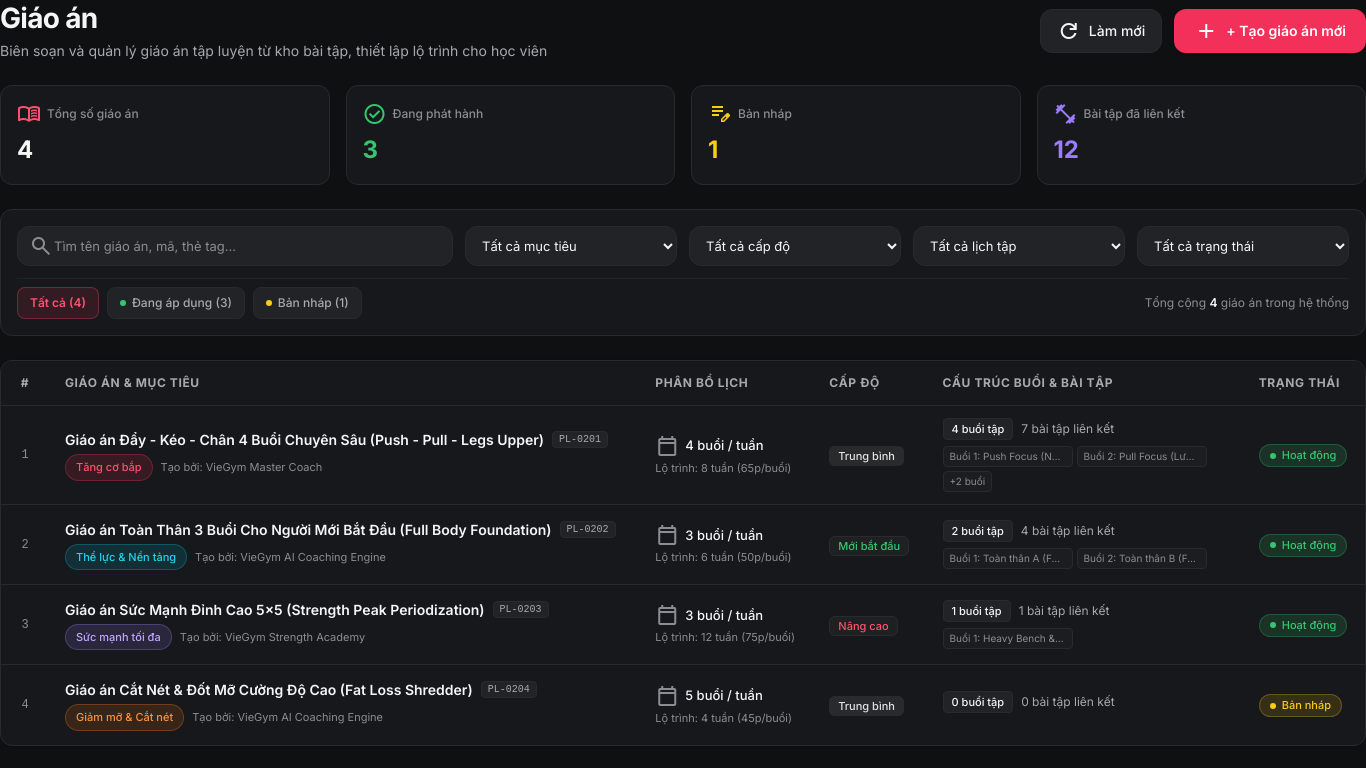
Scenario: WorkoutPlanListPage › opens edit modal on workout plan row click and displays delete button
The width and height of the screenshot is (1366, 768).
What coordinates should you click on to do the following:
click the text "Giáo án Đẩy - Kéo - Chân 4 Buổi Chuyên Sâu"
I would click on:
 (304, 440)
Its box is [65,429,544,450].
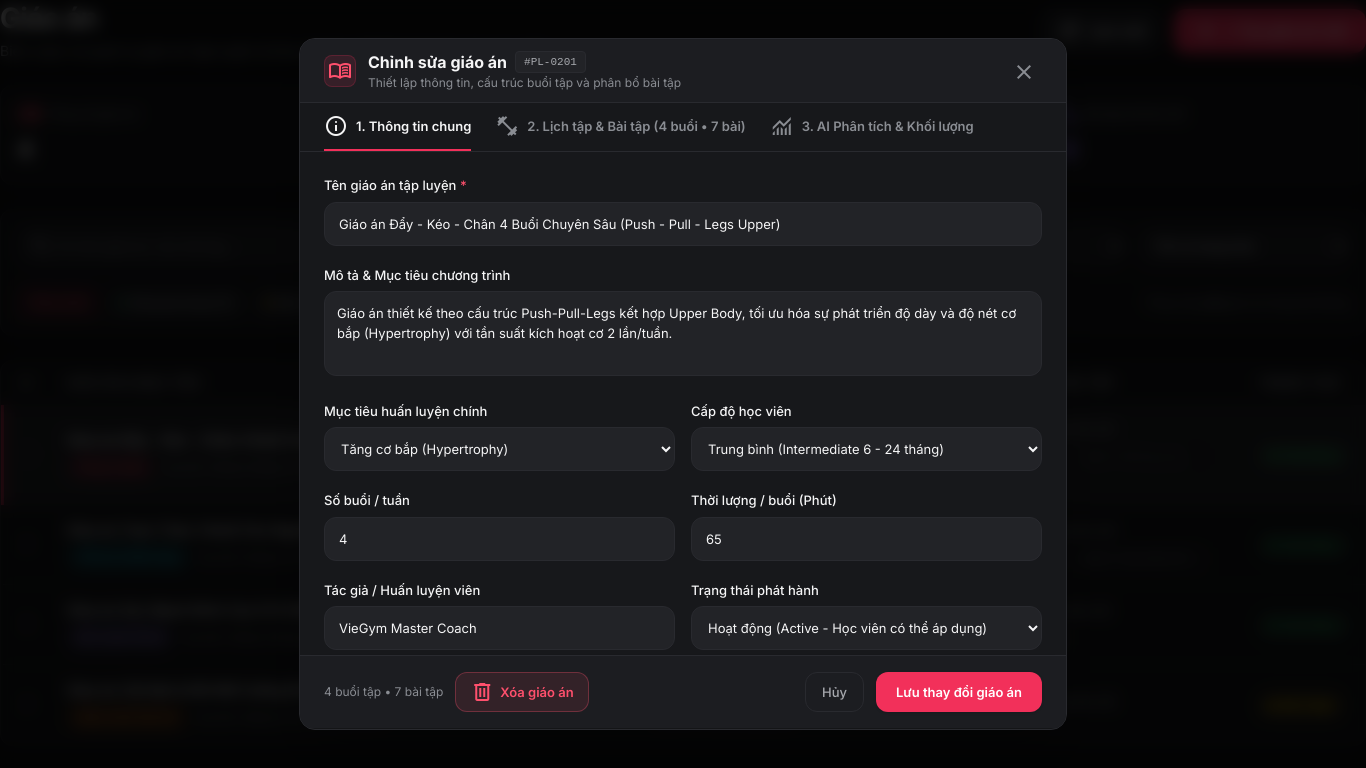
Expected: the heading "Chỉnh sửa giáo án" is shown, [368,50,507,74]
Expected: the button "Xóa giáo án" is shown, [455,673,589,713]
